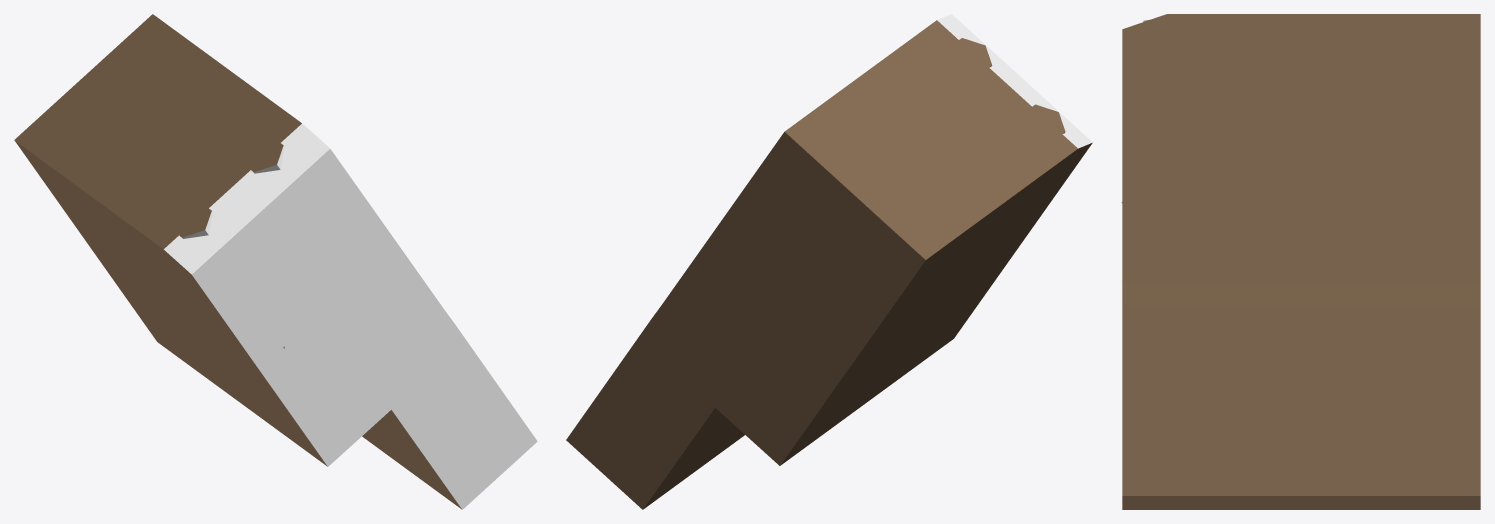
The picture shows the model from 3 angles, left to right: view 1: azimuth 30°, elevation 25°; view 2: azimuth 150°, elevation 25°; view 3: azimuth 270°, elevation 25°; orthographic projection. The views are drawn at different scales.
Parts seen in each view (by area): view 1: City_1202507; view 2: City_1202507; view 3: City_1202507.
Part boxes in pixels (left/top/right/bottom): City_1202507: left=14, top=14, right=537, bottom=509; City_1202507: left=566, top=14, right=1092, bottom=509; City_1202507: left=1121, top=14, right=1480, bottom=509.
Bounding box in the file's own units: 1677 × 1839 × 1409.
